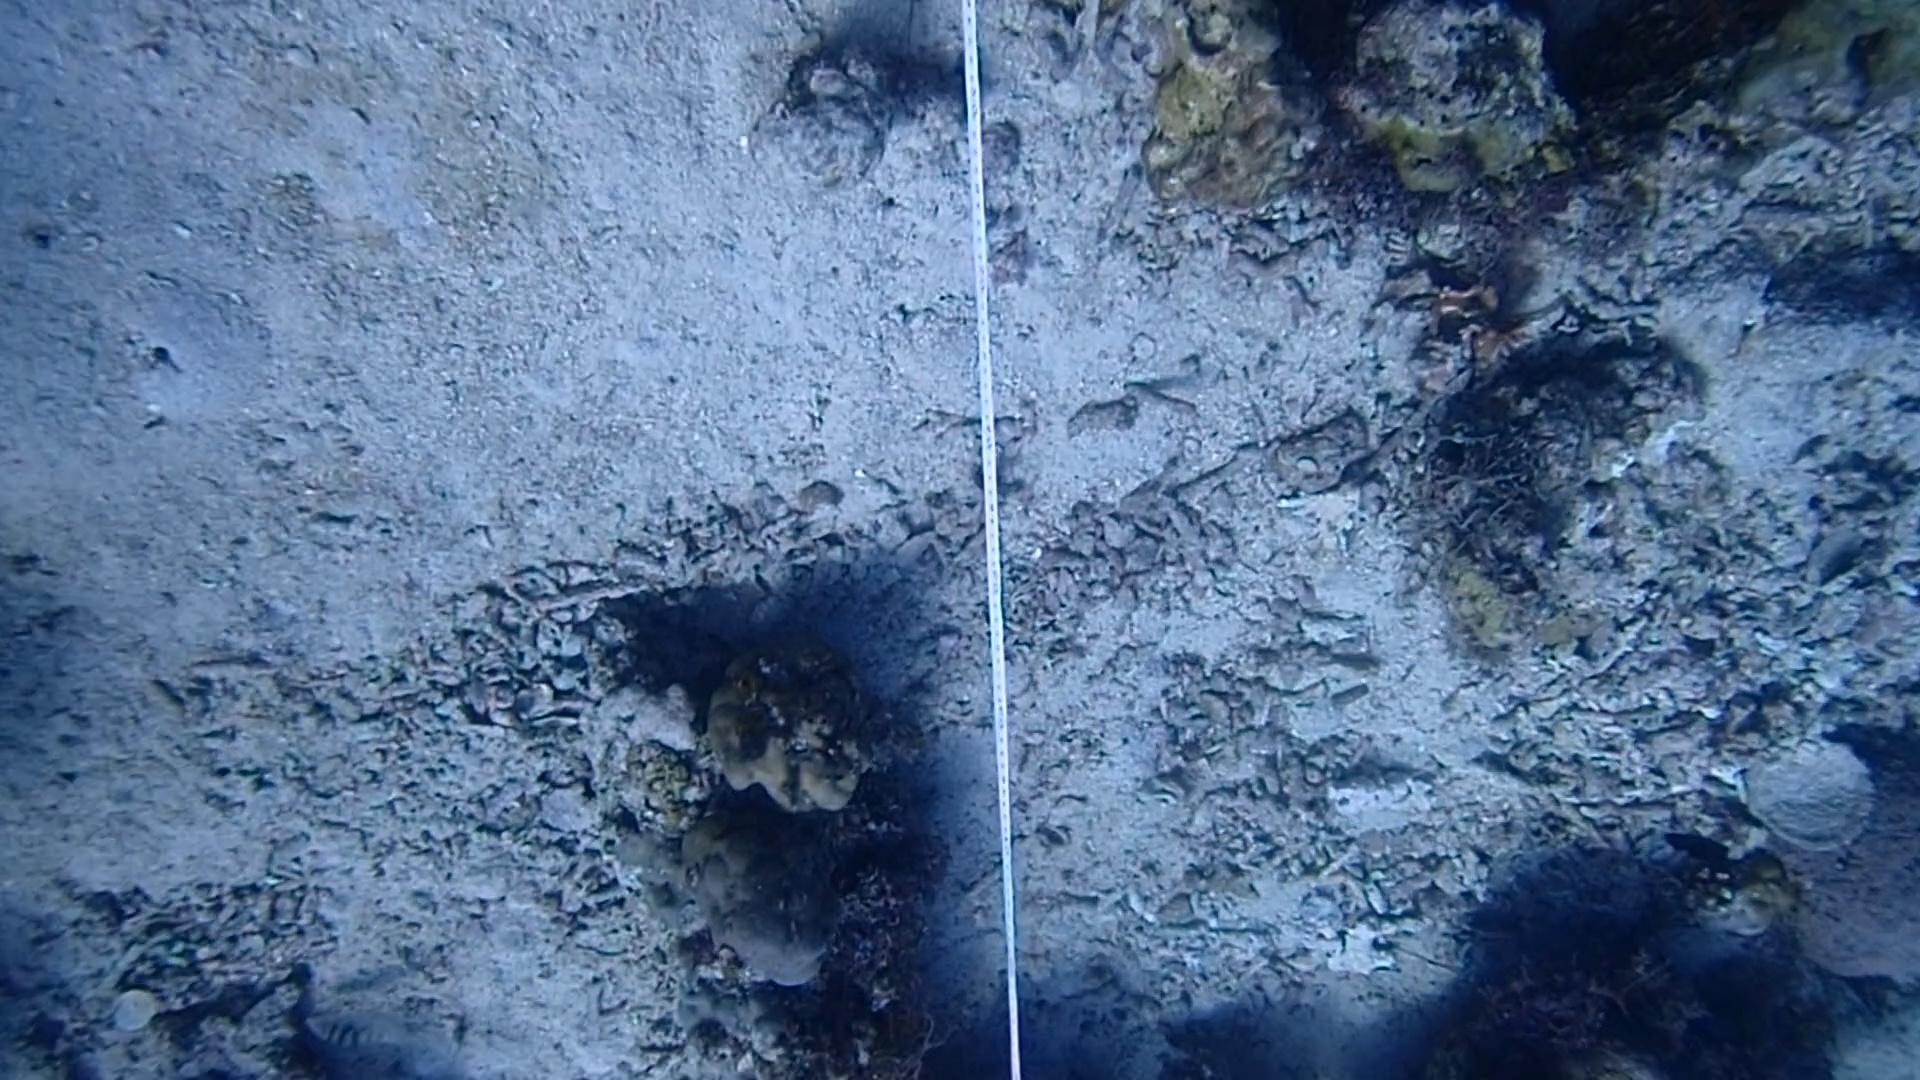Dark Fish: (1658, 823, 1737, 873)
